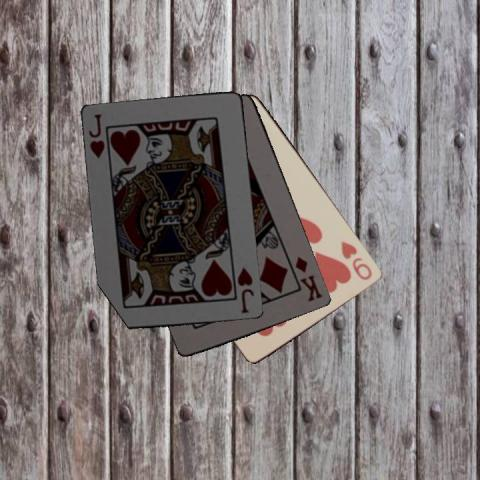9h: (338, 238, 374, 282)
Jh: (85, 111, 107, 160), (235, 264, 255, 315)
Kd: (292, 253, 324, 304)
